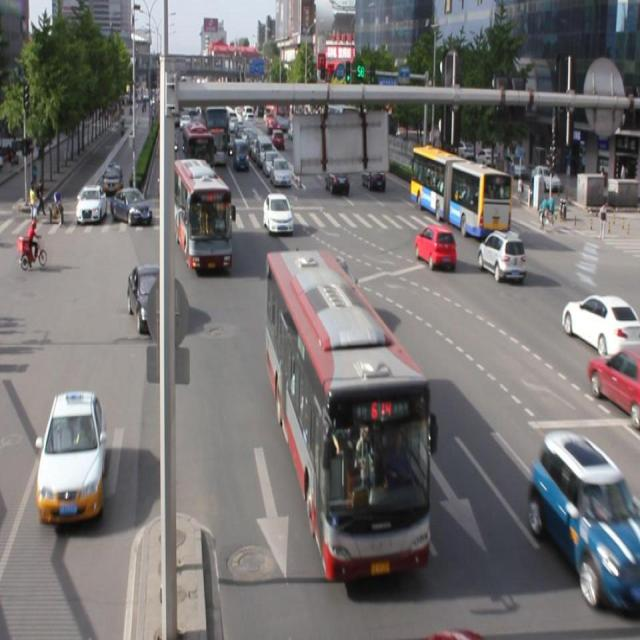car: (528, 429, 640, 604), (37, 390, 106, 523), (560, 291, 640, 354), (585, 350, 640, 418), (127, 262, 177, 334), (476, 227, 525, 281), (414, 224, 456, 268), (263, 192, 293, 233)
van: (266, 250, 430, 575), (410, 144, 512, 240), (174, 159, 233, 270)
